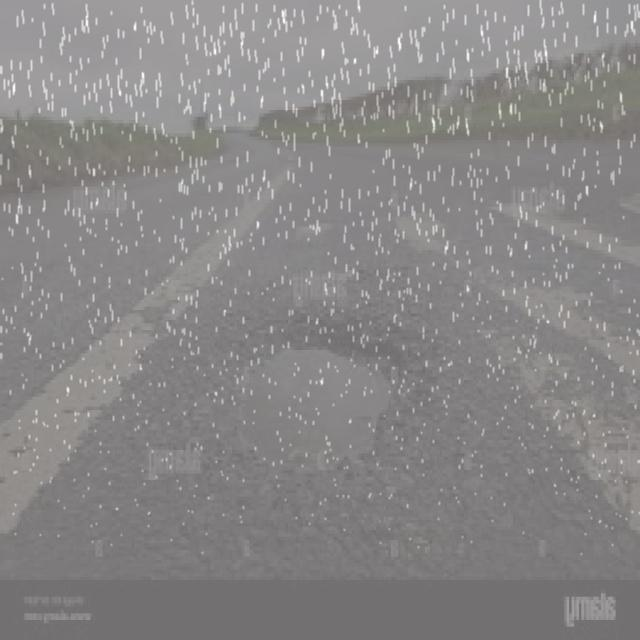Pothole: (223, 320, 413, 493), (505, 349, 640, 528), (378, 200, 477, 276), (288, 220, 342, 244)
